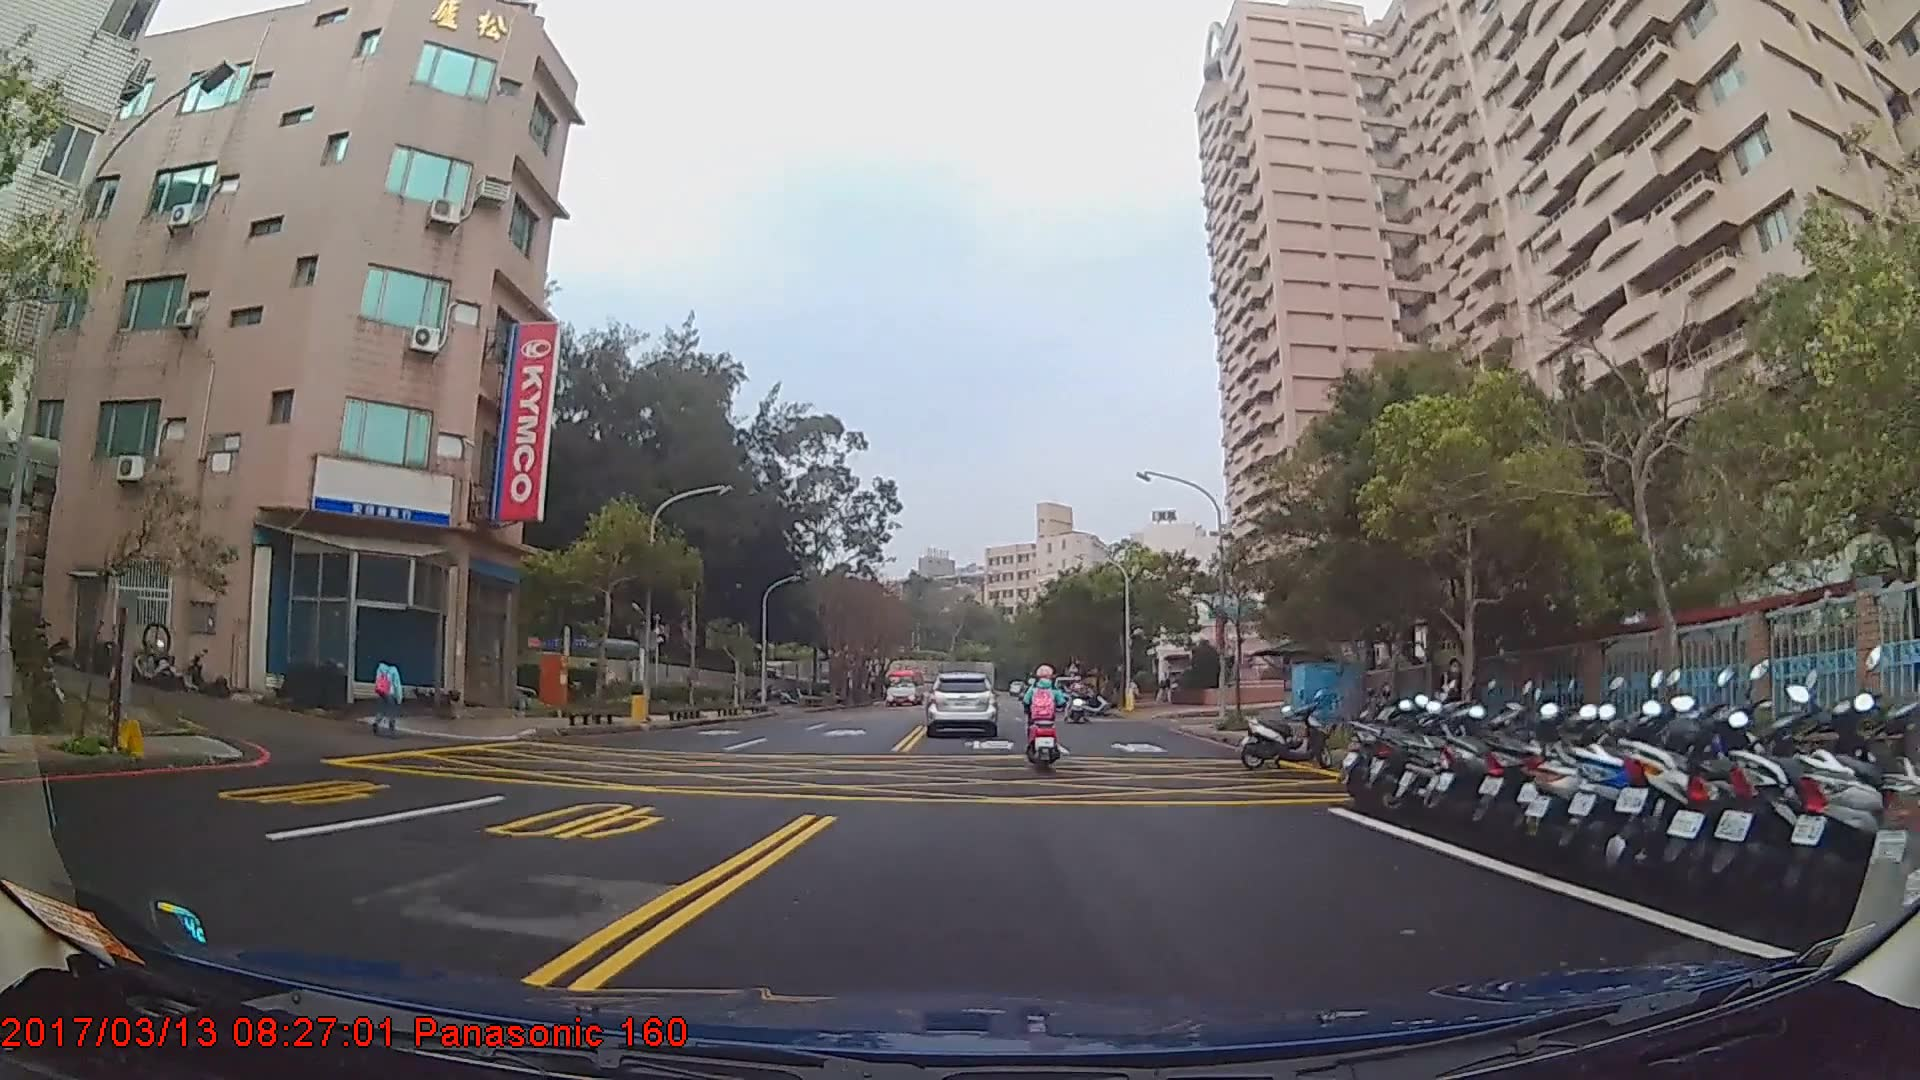pedestrian: (373, 646, 403, 739)
rider: (1020, 659, 1068, 774), (1065, 676, 1088, 723)
vehicle: (923, 672, 995, 738), (883, 668, 924, 706)
